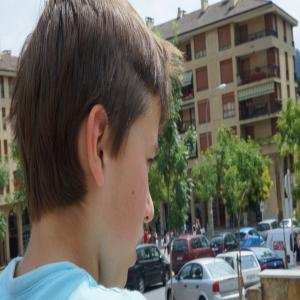Vehicle-registration-plate: (247, 275, 257, 279)
